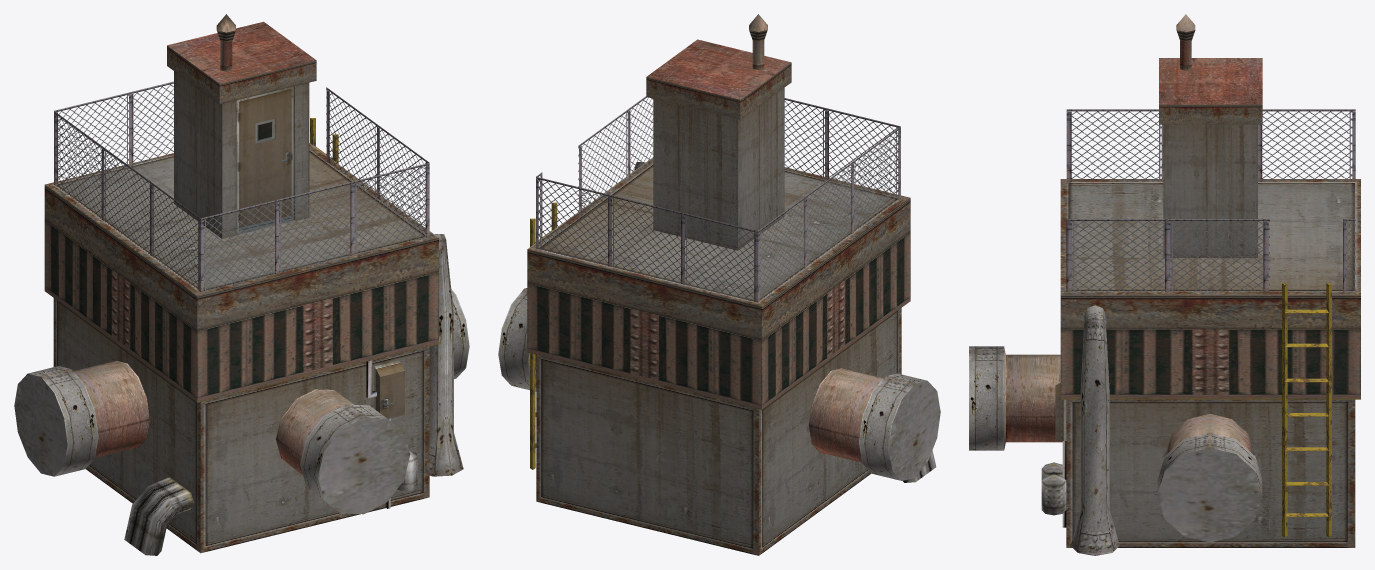
The model's file is OJNC01.glb.
3 renders of one model, left to right at view 1: azimuth 30°, elevation 25°; view 2: azimuth 150°, elevation 25°; view 3: azimuth 270°, elevation 25°, orthographic. The views are drawn at different scales.
Parts seen in each view (by area): view 1: _OJNC01; view 2: _OJNC01; view 3: _OJNC01.
Part boxes in pixels (x1,y1,x2,y2): _OJNC01: (14, 14, 469, 555); _OJNC01: (498, 14, 940, 555); _OJNC01: (969, 14, 1360, 555).
Bounding box in the file's own units: 7.9 × 8.89 × 6.78.
3 materials, 3 textured.
